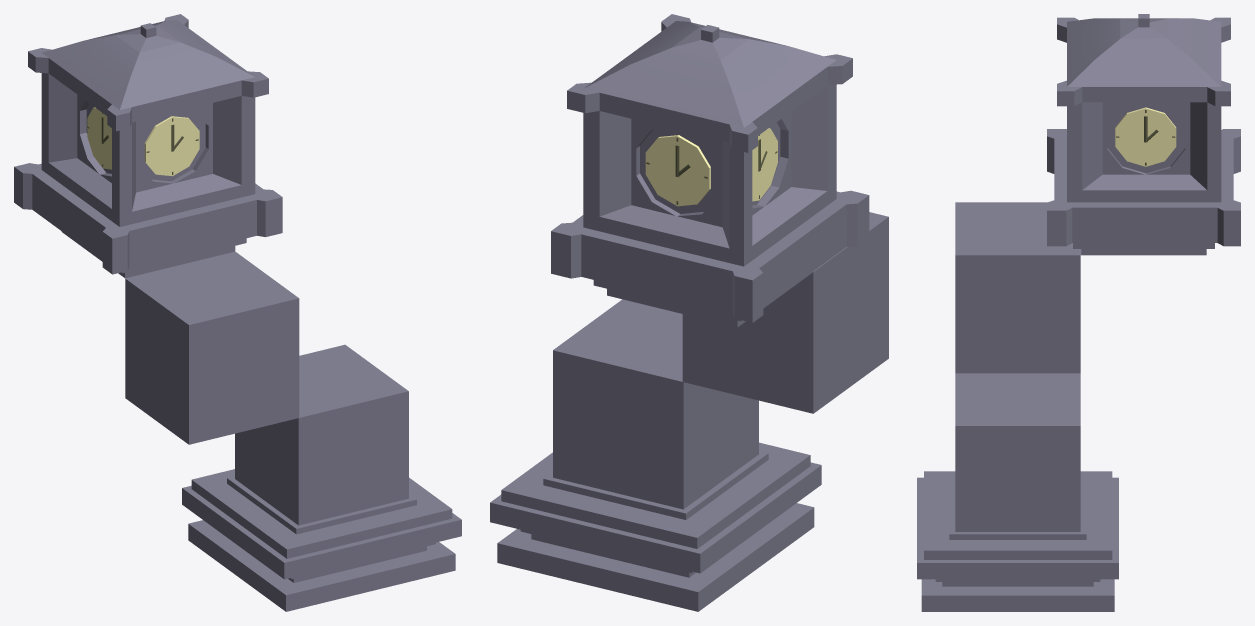
File: clocktower.fbx
3 views of the same model, side by side, from view 1: azimuth 30°, elevation 25°; view 2: azimuth 150°, elevation 25°; view 3: azimuth 270°, elevation 25° (orthographic). The views are drawn at different scales.
Parts seen in each view (by area): view 1: clocktower; view 2: clocktower; view 3: clocktower.
Part boxes in pixels (left/top/right/bottom): clocktower: left=14, top=14, right=461, bottom=611; clocktower: left=490, top=14, right=888, bottom=611; clocktower: left=917, top=14, right=1240, bottom=611.
Size of the model in its own units: 10.03 by 17.21 by 10.06.
